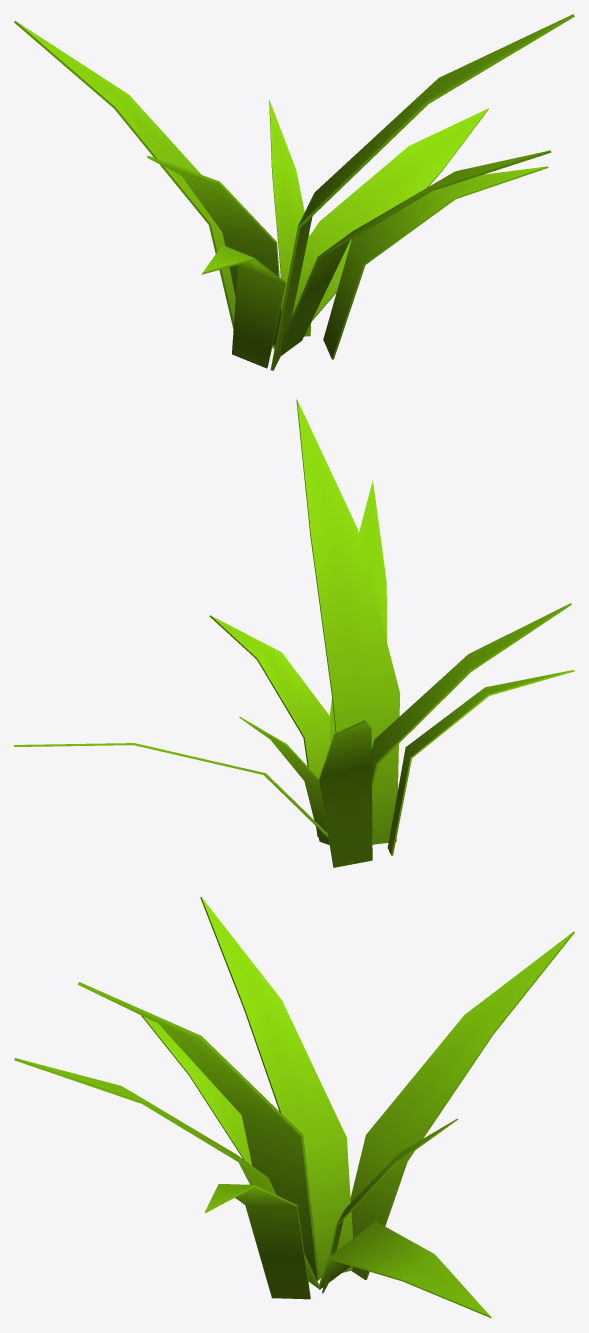
The model's file is Grass.fbx.
3 views of the same model, one above another, from view 1: azimuth 30°, elevation 25°; view 2: azimuth 150°, elevation 25°; view 3: azimuth 270°, elevation 25° (orthographic). The views are drawn at different scales.
Parts seen in each view (by area): view 1: Grass; view 2: Grass; view 3: Grass.
Boxes of the visible parts, left/top/right/bottom form: Grass: left=14, top=14, right=574, bottom=370; Grass: left=14, top=399, right=574, bottom=867; Grass: left=14, top=896, right=574, bottom=1318.
Bounding box in the file's own units: 0.154 × 0.117 × 0.1505.
